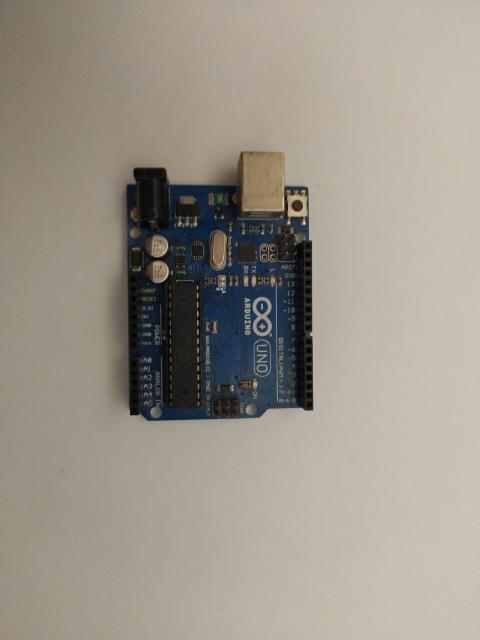arduino: (126, 152, 314, 422)
